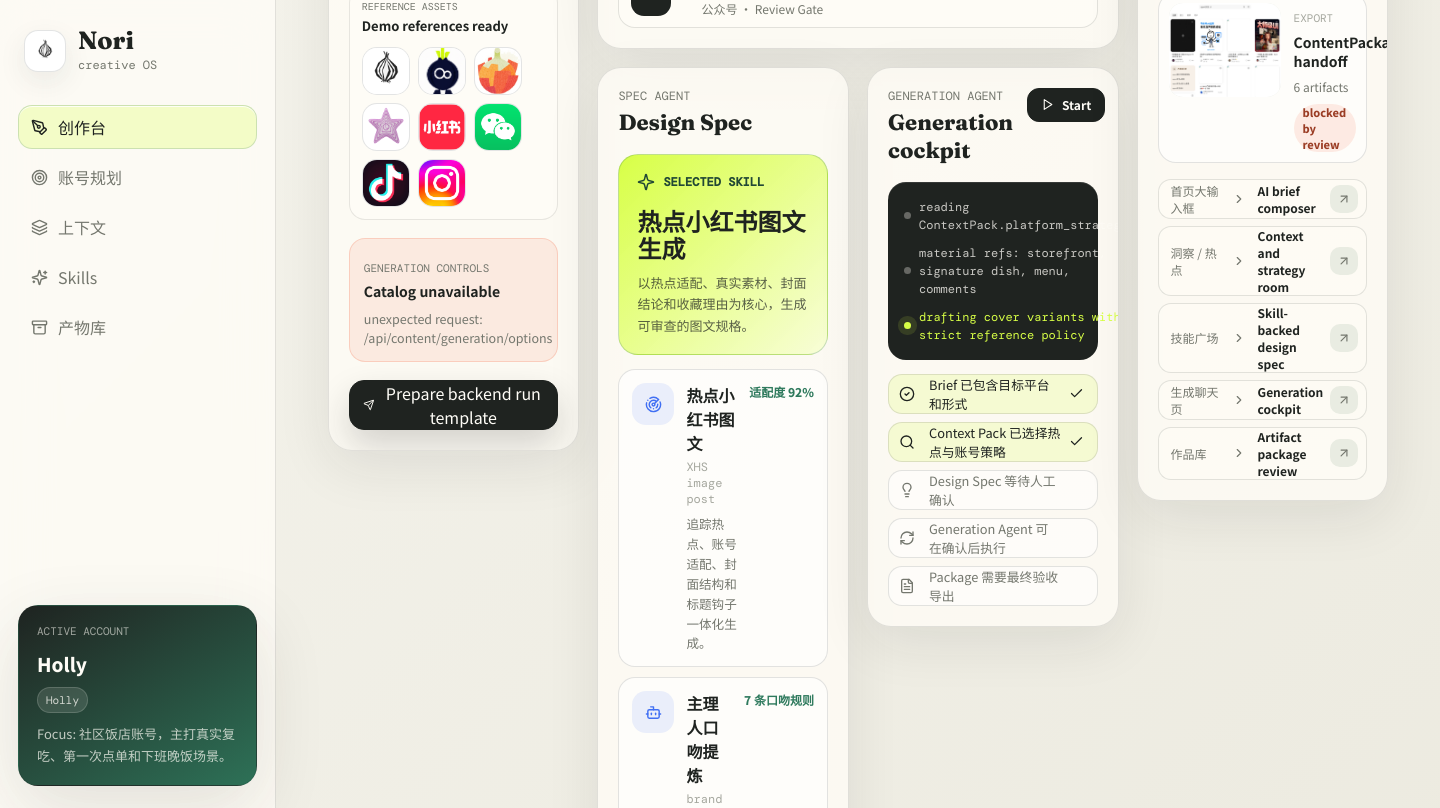
it: App › prepares a backend run template from the compose brief before generation
The image size is (1440, 808).
(page scrolled)
Click the button "Prepare backend run template": (454, 405) [349,380,558,430]
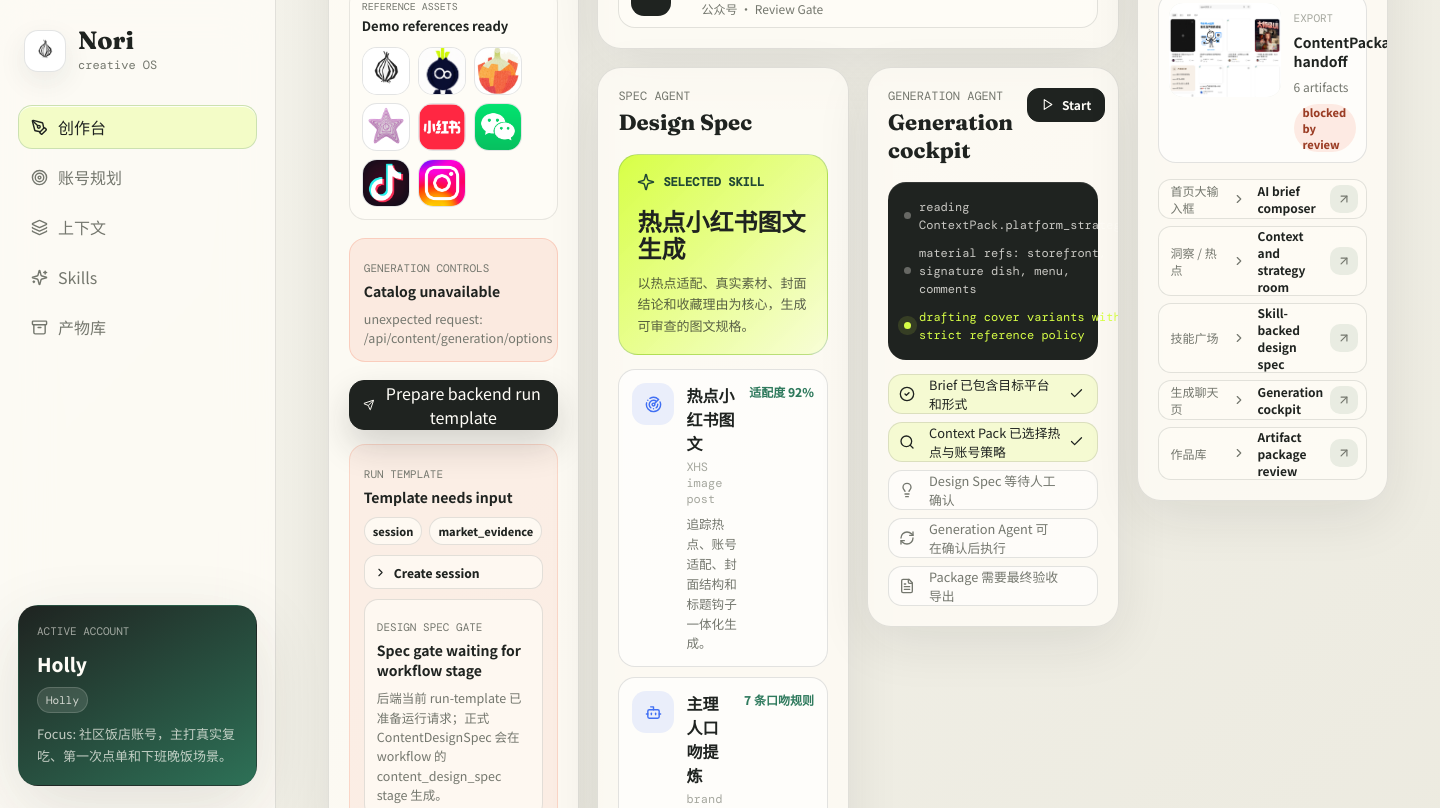
expect the text "Template needs input" is shown: met, box [364,487,513,507]
expect the text "session" is shown: met, box [364,517,422,545]
expect the text "market_evidence" is shown: met, box [429,517,542,545]
